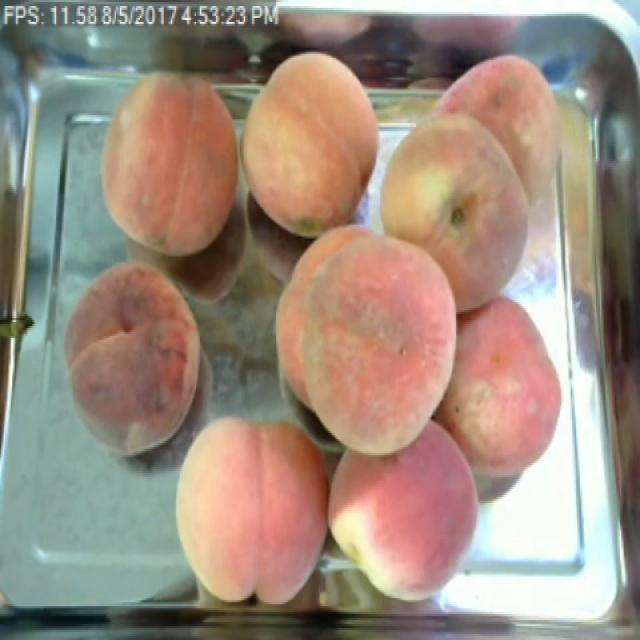Fruit: (258, 203, 478, 471), (362, 109, 550, 326), (44, 245, 220, 469), (166, 402, 346, 616), (236, 38, 400, 250), (320, 410, 492, 610), (92, 60, 249, 264), (427, 284, 576, 489)
